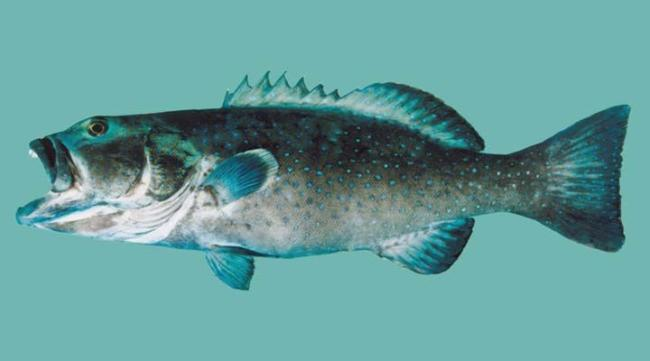fish: (16, 68, 633, 292)
